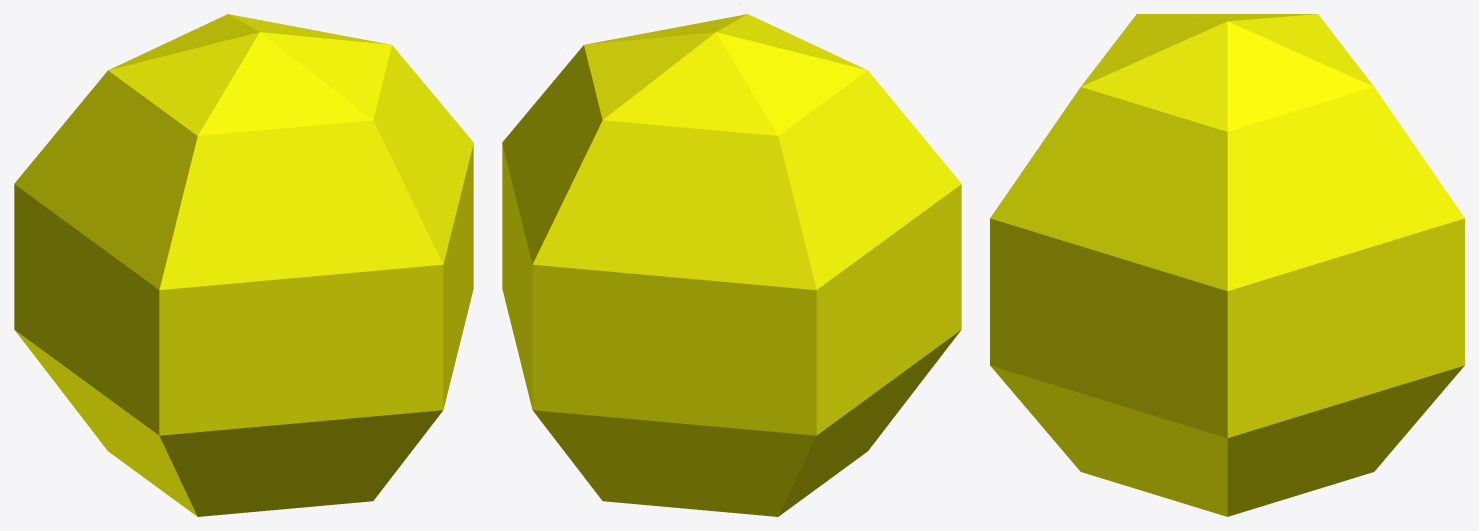
The model's file is trajectory_Yellow.FBX.
3 renders of one model, left to right at view 1: azimuth 30°, elevation 25°; view 2: azimuth 150°, elevation 25°; view 3: azimuth 270°, elevation 25°, orthographic.
Parts seen in each view (by area): view 1: Sphere; view 2: Sphere; view 3: Sphere.
Boxes of the visible parts, x1=… form: Sphere: x1=14, y1=14, x2=473, y2=516; Sphere: x1=502, y1=14, x2=961, y2=516; Sphere: x1=990, y1=14, x2=1464, y2=516.
Bounding box in the file's own units: 0.4301 × 0.4523 × 0.5.
